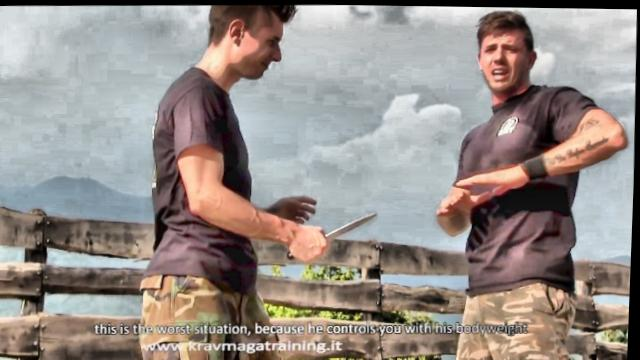knife: (284, 205, 385, 266)
